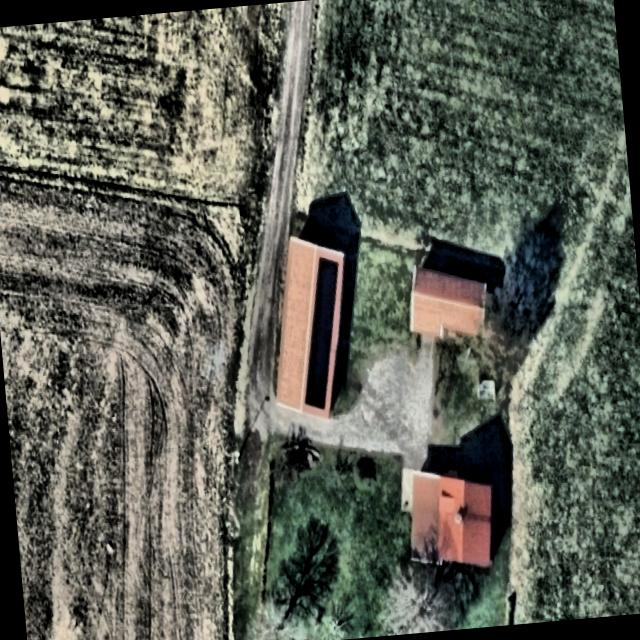roof_pv: (286, 245, 355, 416)
